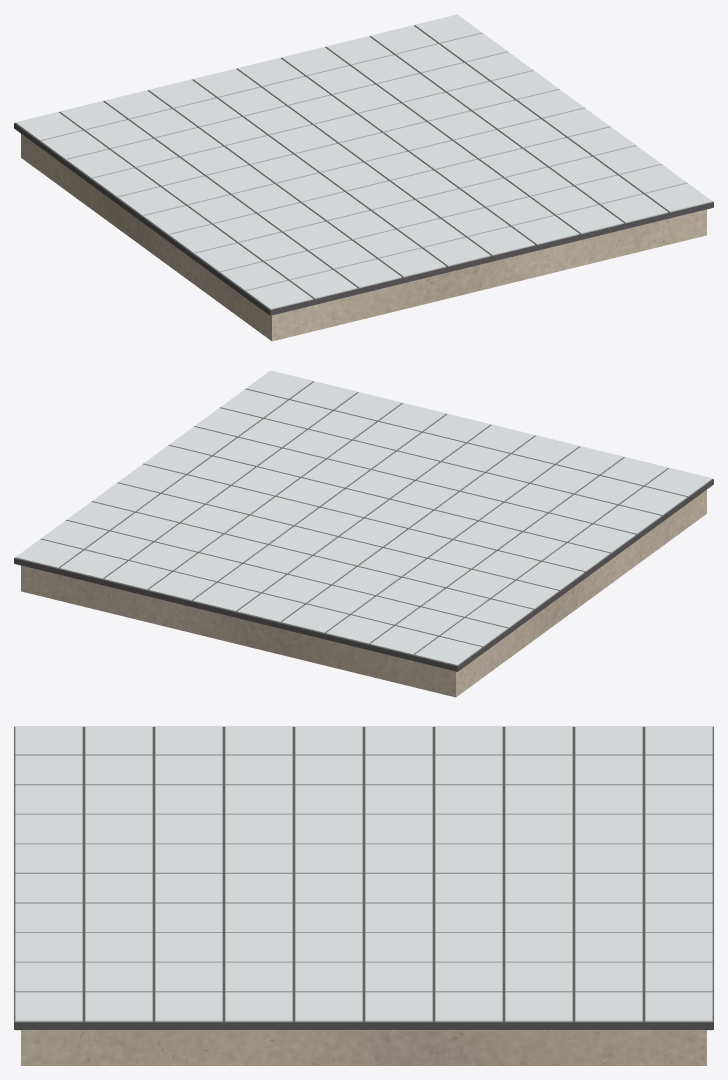
Rendered from floor_tile_bath.glb.
3 views of the same model, one above another, from view 1: azimuth 30°, elevation 25°; view 2: azimuth 150°, elevation 25°; view 3: azimuth 270°, elevation 25° (orthographic). The views are drawn at different scales.
Parts seen in each view (by area): view 1: floor_tile_bath_tile, floor_tile_bath_render, floor_tile_bath_dark; view 2: floor_tile_bath_tile, floor_tile_bath_render, floor_tile_bath_dark; view 3: floor_tile_bath_tile, floor_tile_bath_render, floor_tile_bath_dark.
Part boxes in pixels (x1=…): floor_tile_bath_tile: x1=15, y1=14, x2=712, y2=315; floor_tile_bath_render: x1=21, y1=134, x2=706, y2=341; floor_tile_bath_dark: x1=14, y1=25, x2=713, y2=315; floor_tile_bath_tile: x1=15, y1=370, x2=712, y2=671; floor_tile_bath_render: x1=21, y1=490, x2=706, y2=697; floor_tile_bath_dark: x1=14, y1=381, x2=713, y2=671; floor_tile_bath_tile: x1=15, y1=726, x2=712, y2=1030; floor_tile_bath_render: x1=21, y1=1030, x2=706, y2=1065; floor_tile_bath_dark: x1=14, y1=726, x2=713, y2=1029.
Size of the model in its own units: 2 by 0.15 by 2.
Materials: 3 (1 with a texture image).
